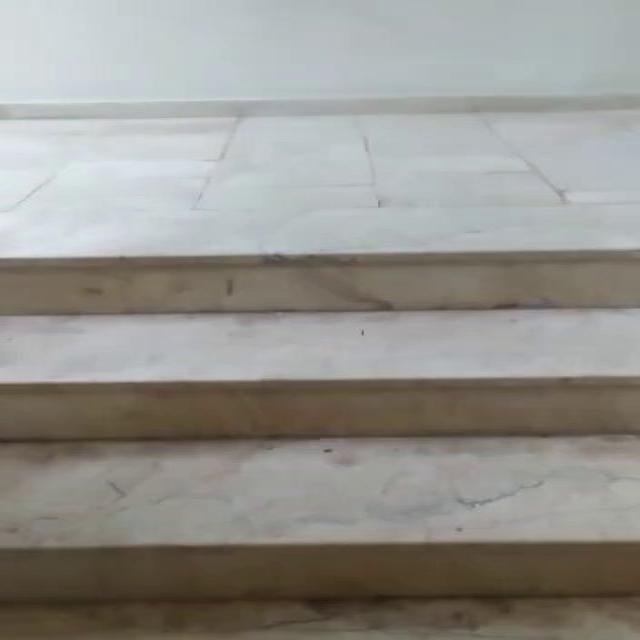stairs: (0, 97, 638, 638)
